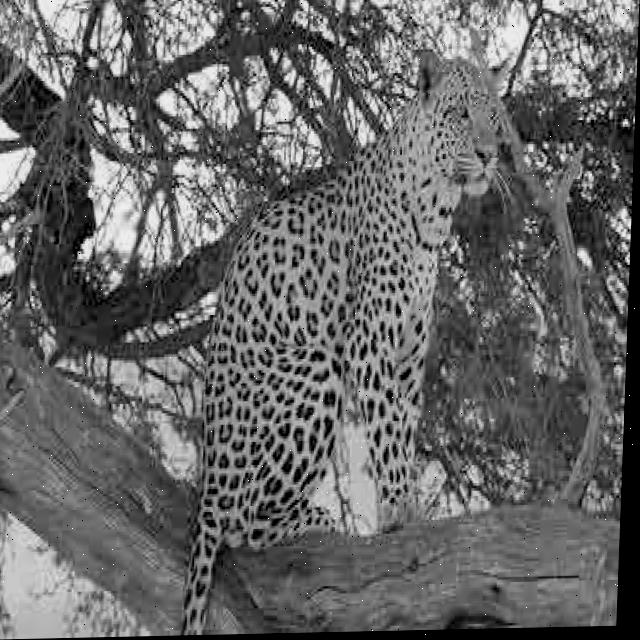Leopard: (178, 29, 524, 633)
